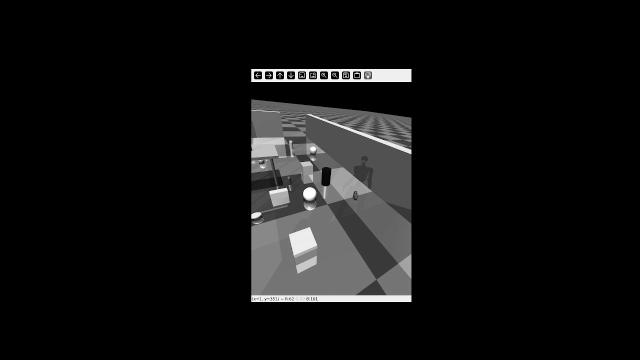cilindro: (322, 164, 334, 187), (288, 137, 296, 156), (284, 176, 292, 187)
cuadrado: (284, 223, 324, 265), (300, 159, 316, 176)
esfera: (303, 185, 321, 201), (249, 212, 267, 221), (309, 145, 319, 156), (257, 159, 266, 164), (352, 189, 357, 194), (354, 194, 359, 197)
rectangulo: (270, 186, 289, 203)
